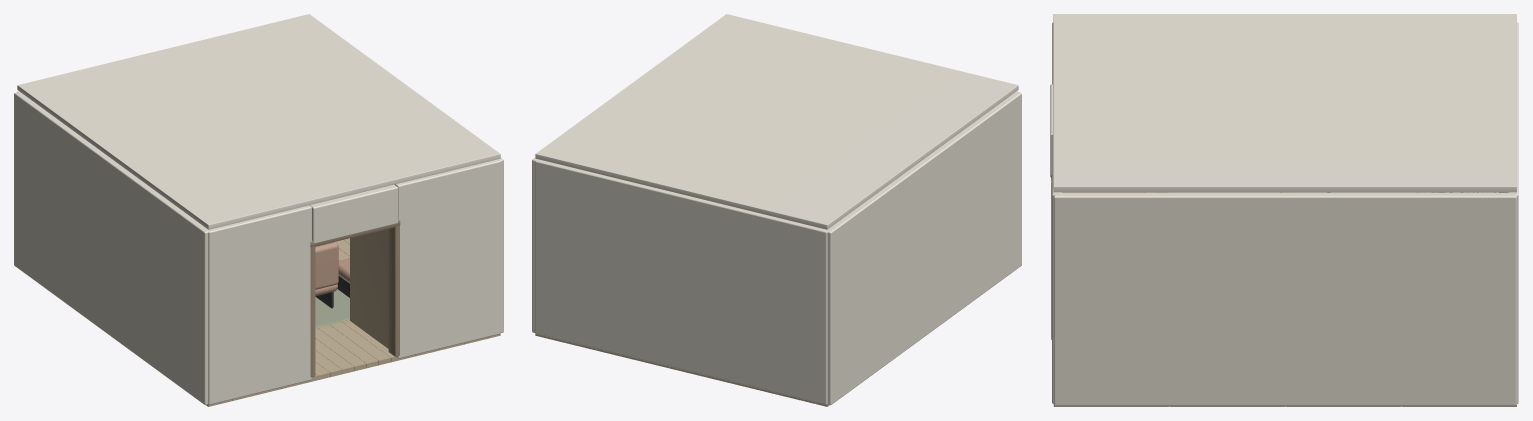
Rendered from interior-works.glb.
The picture shows the model from 3 angles, left to right: view 1: azimuth 30°, elevation 25°; view 2: azimuth 150°, elevation 25°; view 3: azimuth 270°, elevation 25°; orthographic projection. The views are drawn at different scales.
Visible parts, largest first — view 1: shell, detail; view 2: shell; view 3: shell.
Part boxes in pixels (x1,y1,x2,y2): shell: (14, 14, 503, 406); detail: (315, 242, 349, 308); shell: (532, 14, 1021, 406); shell: (1050, 14, 1518, 406).
Bounding box in the file's own units: 6.15 × 3.57 × 6.87.
